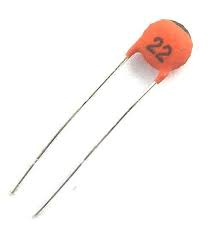ceramic capacitor: (112, 1, 207, 98)
